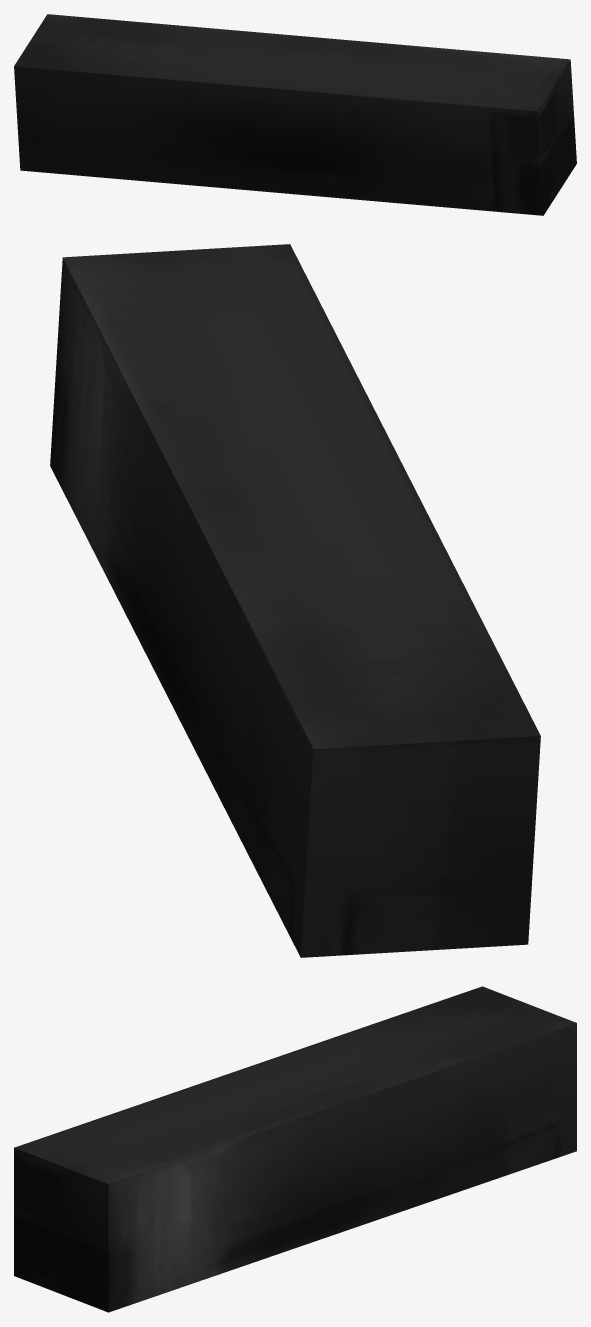
File: frame__seat_upright_1.glb
3 renders of one model, top to bottom at view 1: azimuth 30°, elevation 25°; view 2: azimuth 150°, elevation 25°; view 3: azimuth 270°, elevation 25°, orthographic. The views are drawn at different scales.
Visible parts, largest first — view 1: world; view 2: world; view 3: world.
Boxes of the visible parts, <box> form: world: <box>14,14,576,215</box>; world: <box>50,244,540,957</box>; world: <box>14,986,576,1312</box>.
Size of the model in its own units: 0.1994 by 0.0622 by 0.2043.
1 material, 1 textured.
